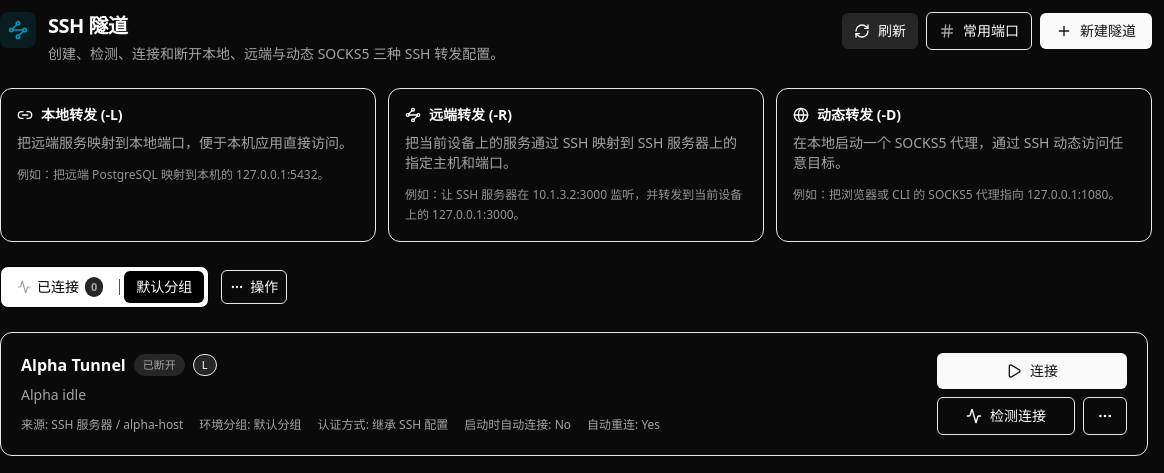
Test: SshTunnels › 分组连接部分失败时报告部分失败消息
The width and height of the screenshot is (1164, 473).
Click the button "操作" at (254, 287), box [221,270,287,304]
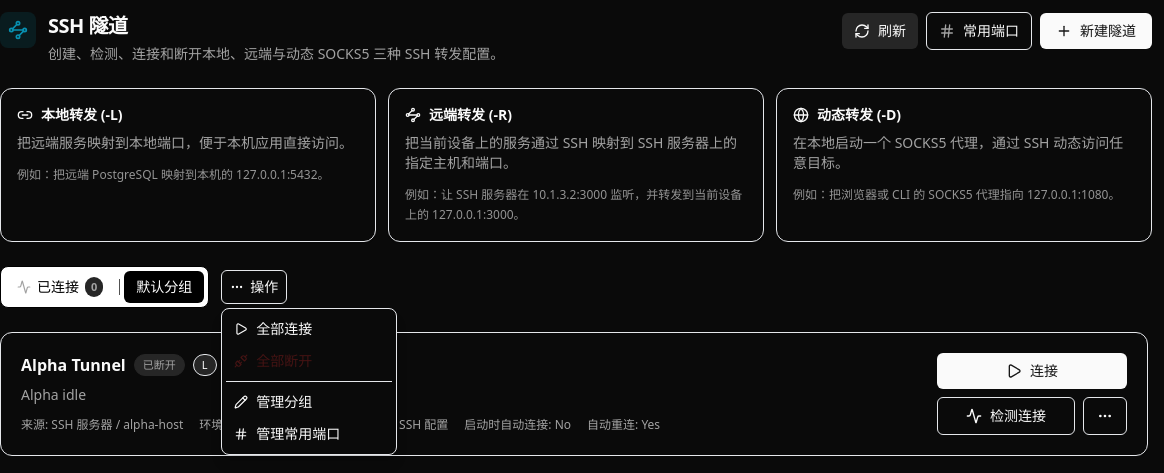
Click the menu item "全部连接" at (309, 329), box [226,313,392,345]
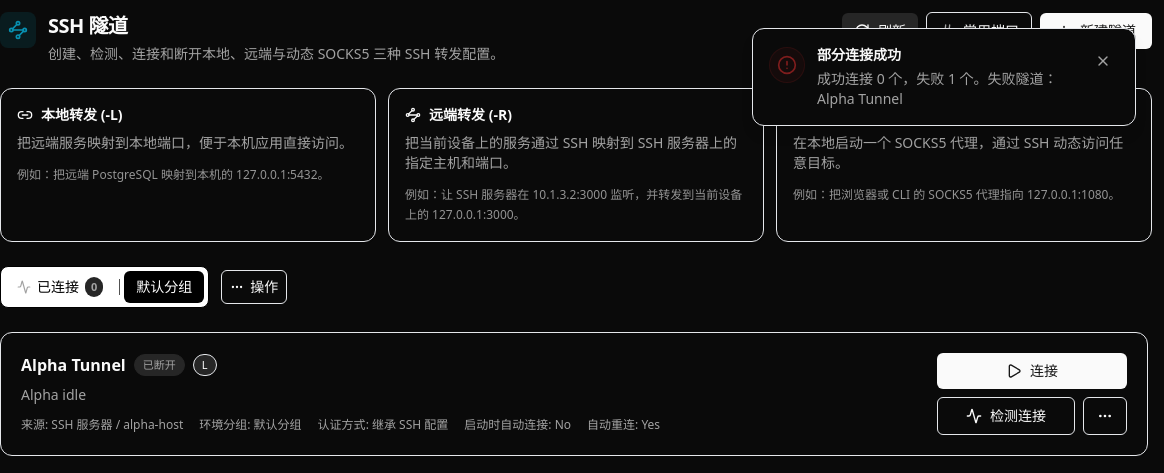
Now the text "部分连接成功" is shown, box [817,45,901,64]
